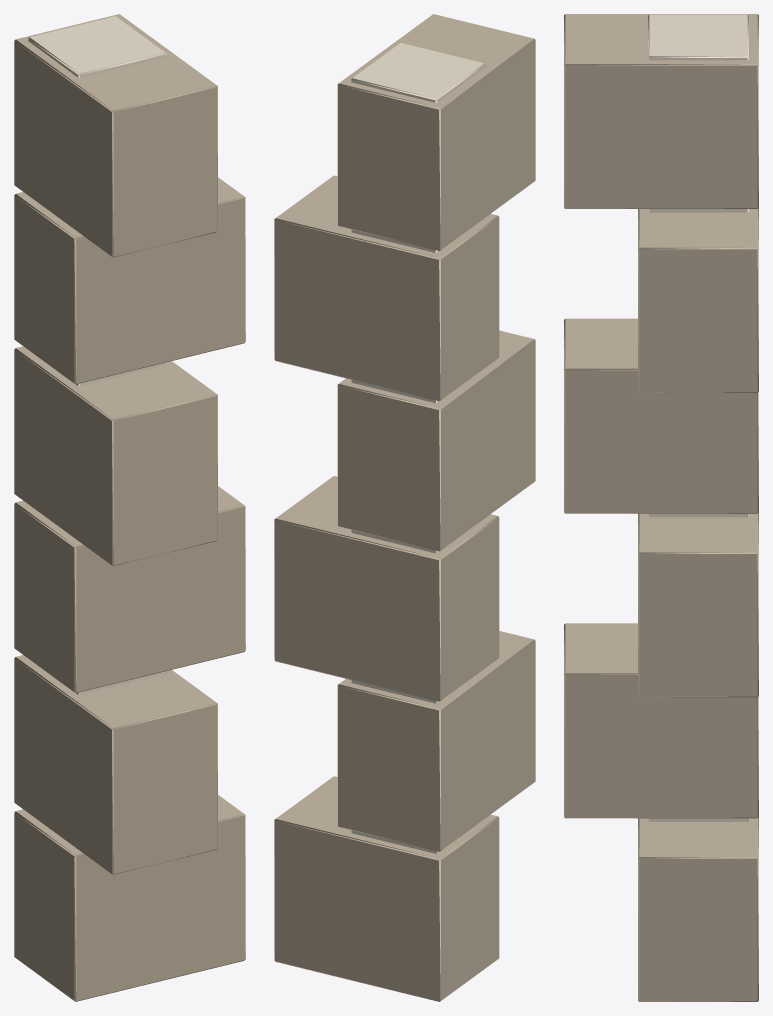
File: SM_VB_FacA_CornerUpper.fbx
The picture shows the model from 3 angles, left to right: view 1: azimuth 30°, elevation 25°; view 2: azimuth 150°, elevation 25°; view 3: azimuth 270°, elevation 25°; orthographic projection. The views are drawn at different scales.
Visible parts, largest first — view 1: SM_VB_FacA_CornerUpper; view 2: SM_VB_FacA_CornerUpper; view 3: SM_VB_FacA_CornerUpper.
Boxes of the visible parts, x1,y1,x2,y2 form: SM_VB_FacA_CornerUpper: [14, 14, 245, 1001]; SM_VB_FacA_CornerUpper: [274, 14, 535, 1001]; SM_VB_FacA_CornerUpper: [564, 14, 758, 1001].
Size of the model in its own units: 0.58 by 3 by 0.58.
